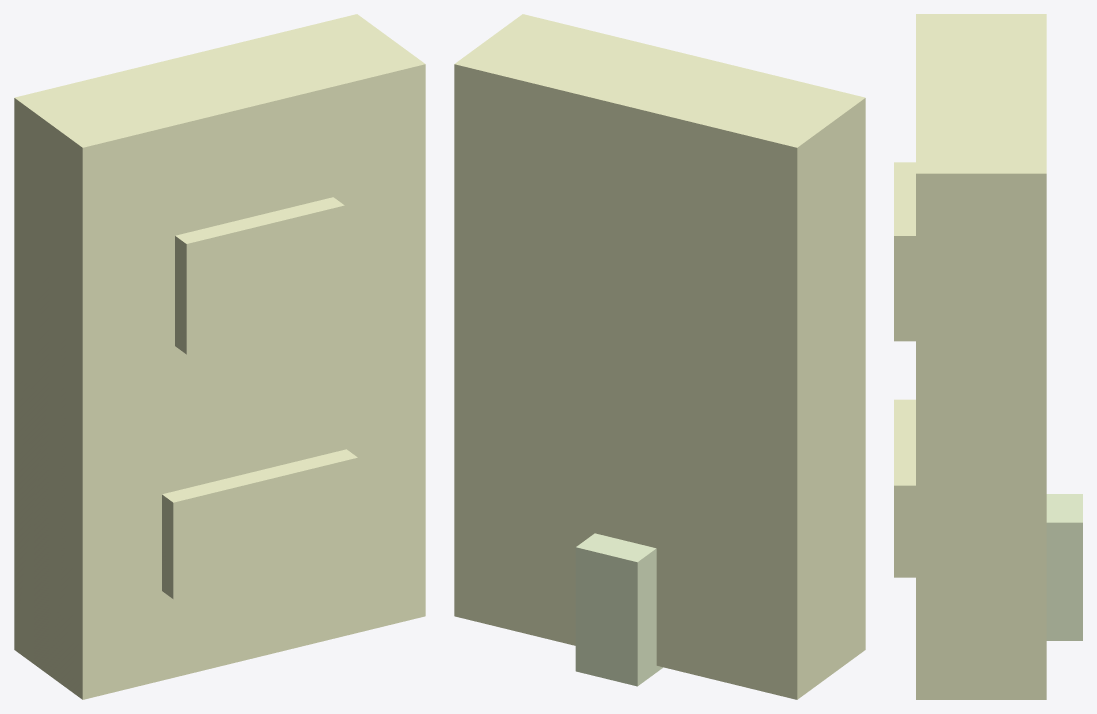
Rendered from signal_lane_control_bus_only_2_aspect.glb.
The picture shows the model from 3 angles, left to right: view 1: azimuth 30°, elevation 25°; view 2: azimuth 150°, elevation 25°; view 3: azimuth 270°, elevation 25°; orthographic projection. The views are drawn at different scales.
Parts seen in each view (by area): view 1: housing, display_bus_only, display_red_x; view 2: housing, bracket; view 3: housing, bracket, display_red_x, display_bus_only.
Part boxes in pixels (box(x1,y1,x2,y2)): housing: box(14, 14, 425, 699); display_bus_only: box(162, 449, 357, 599); display_red_x: box(175, 197, 344, 354); housing: box(454, 14, 865, 699); bracket: box(575, 533, 663, 686); housing: box(916, 14, 1046, 699); bracket: box(1046, 494, 1082, 640); display_red_x: box(894, 162, 915, 341); display_bus_only: box(894, 399, 915, 577).
Size of the model in its own units: 0.52 by 0.81 by 0.26.
